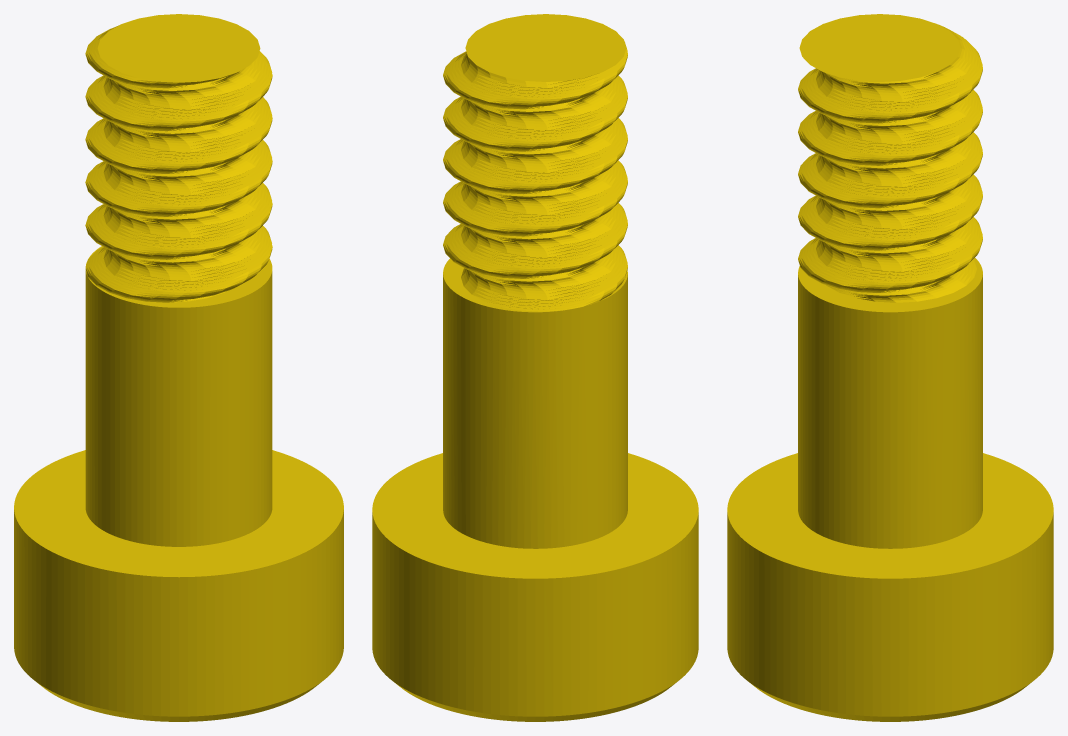
Rendered from screw_v1.dae.
The picture shows the model from 3 angles, left to right: view 1: azimuth 30°, elevation 25°; view 2: azimuth 150°, elevation 25°; view 3: azimuth 270°, elevation 25°; orthographic projection.
Visible parts, largest first — view 1: _c643ccbc4db44196f113ea1; view 2: _c643ccbc4db44196f113ea1; view 3: _c643ccbc4db44196f113ea1.
Part boxes in pixels (bbox=[...]): _c643ccbc4db44196f113ea1: bbox=[14, 14, 343, 721]; _c643ccbc4db44196f113ea1: bbox=[372, 14, 698, 721]; _c643ccbc4db44196f113ea1: bbox=[727, 14, 1053, 721].
Bounding box in the file's own units: 0.03 × 0.03 × 0.0616.
